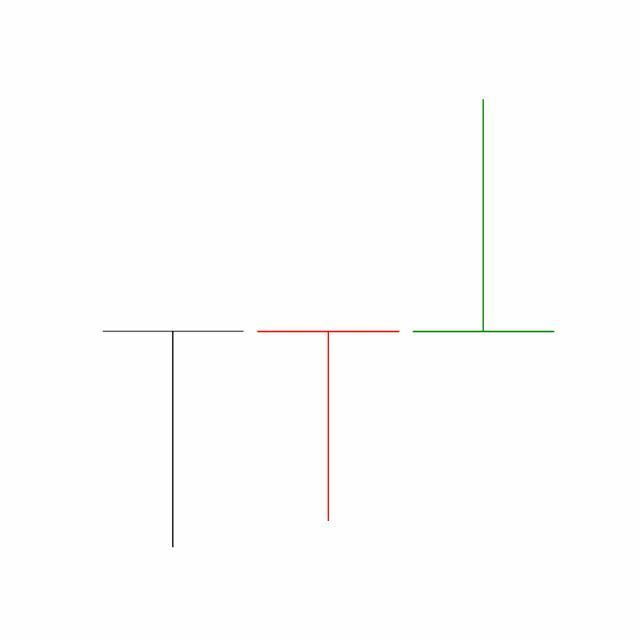Dragonfly Doji: (250, 329, 407, 524)
